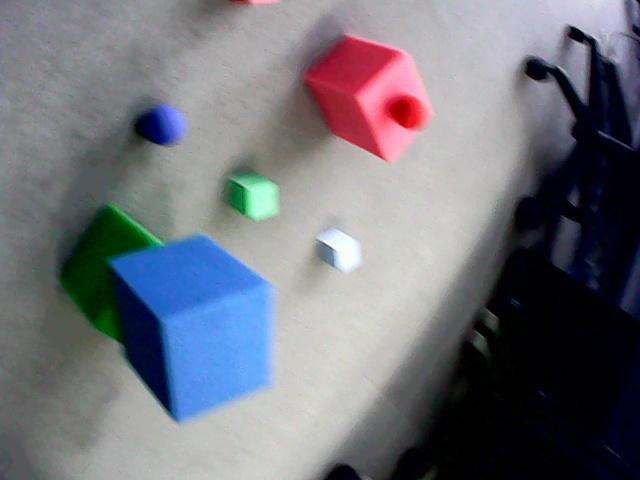blue_block: (109, 235, 273, 421), (317, 228, 361, 272), (318, 242, 335, 265)
red_block: (305, 36, 432, 161), (230, 0, 279, 3)
